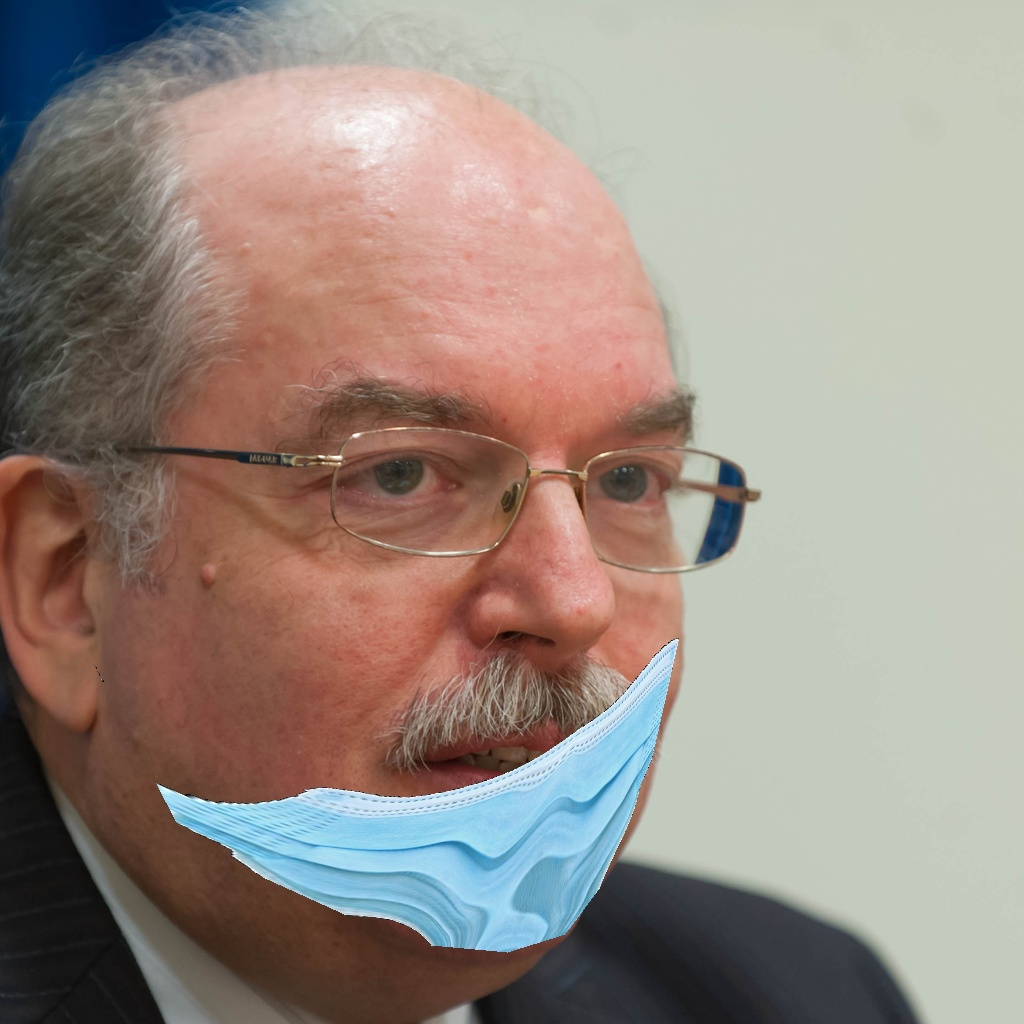mascarilla_mal_puesta: (44, 383, 699, 968)
